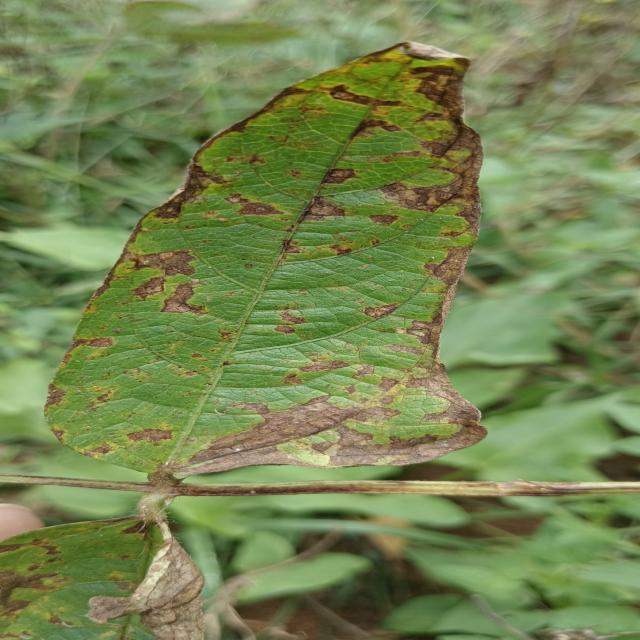Black gram_leaf spot: (39, 33, 504, 481), (0, 521, 233, 640)
